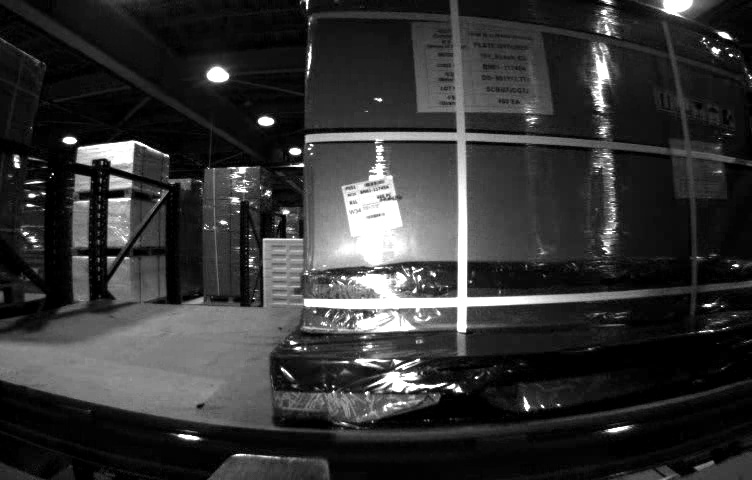True Barcode: (340, 173, 405, 234)
